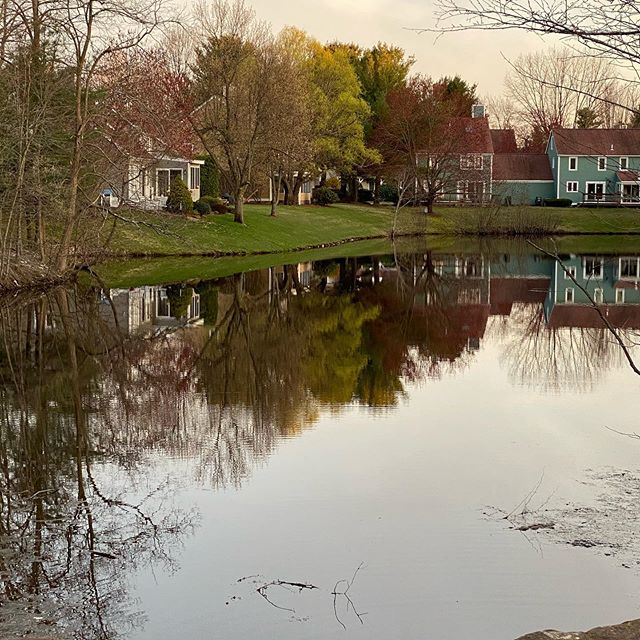building: (437, 122, 637, 199), (106, 108, 196, 217)
river: (1, 252, 640, 640)
tree: (168, 26, 291, 239), (275, 34, 367, 215), (361, 52, 443, 207)
